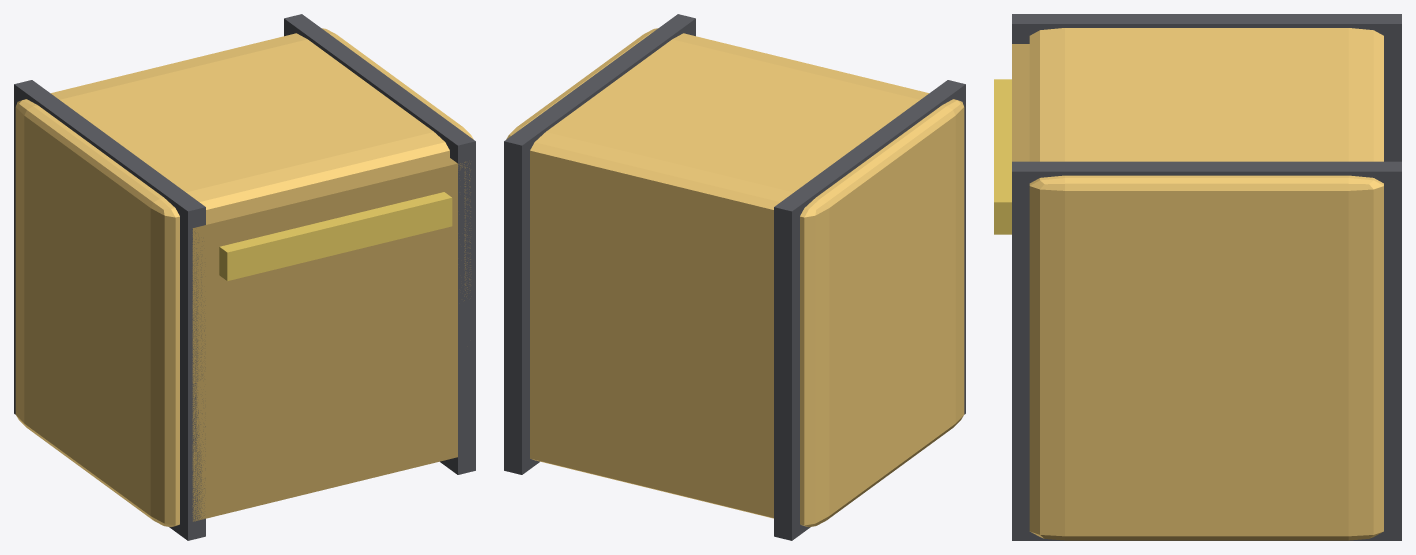
The model's file is prop_switch.fbx.
3 views of the same model, side by side, from view 1: azimuth 30°, elevation 25°; view 2: azimuth 150°, elevation 25°; view 3: azimuth 270°, elevation 25° (orthographic). The views are drawn at different scales.
Parts seen in each view (by area): view 1: prop_switch; view 2: prop_switch; view 3: prop_switch.
Part boxes in pixels (x1=…): prop_switch: x1=14, y1=14, x2=475, y2=540; prop_switch: x1=504, y1=14, x2=965, y2=540; prop_switch: x1=994, y1=14, x2=1401, y2=540.
Bounding box in the file's own units: 1 × 1 × 1.
